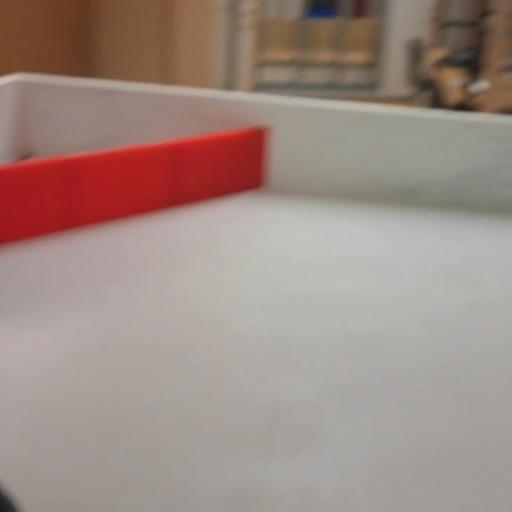dead: (0, 484, 20, 512)
